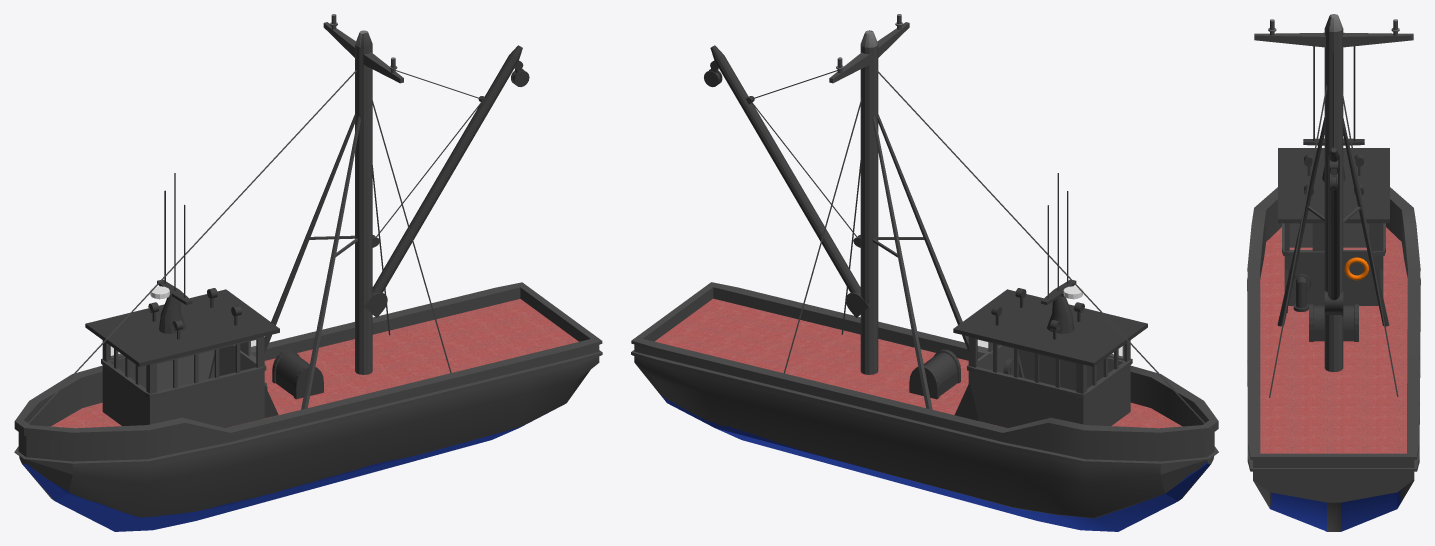
3 renders of one model, left to right at view 1: azimuth 30°, elevation 25°; view 2: azimuth 150°, elevation 25°; view 3: azimuth 270°, elevation 25°, orthographic. The views are drawn at different scales.
Parts seen in each view (by area): view 1: hull, pCube32, pCube33, pCylinder5, pCylinder22, pCylinder20, pCylinder23, pCylinder21, pCube20, cables1; view 2: hull, pCube32, pCube33, pCylinder5, pCylinder22, pCylinder23, pCylinder21, pCylinder20, pCube20, cables1; view 3: hull, pCube33, pCube32, pCylinder5, pCube20, pCylinder22, pCylinder23, pCylinder20, pCylinder21, cables2, cables3, pCylinder29 (+4 smaller).
Boxes of the visible parts, x1=… form: hull: x1=14, y1=282, x2=602, y2=531; pCube32: x1=101, y1=336, x2=266, y2=428; pCube33: x1=85, y1=289, x2=279, y2=366; pCylinder5: x1=355, y1=30, x2=372, y2=374; pCylinder22: x1=372, y1=45, x2=522, y2=292; pCylinder20: x1=301, y1=116, x2=360, y2=409; pCylinder23: x1=272, y1=349, x2=323, y2=399; pCylinder21: x1=264, y1=114, x2=355, y2=353; pCube20: x1=323, y1=22, x2=403, y2=83; cables1: x1=28, y1=70, x2=356, y2=423; hull: x1=631, y1=282, x2=1218, y2=531; pCube32: x1=967, y1=336, x2=1132, y2=427; pCube33: x1=953, y1=289, x2=1147, y2=366; pCylinder5: x1=860, y1=30, x2=878, y2=374; pCylinder22: x1=710, y1=45, x2=860, y2=292; pCylinder23: x1=909, y1=349, x2=960, y2=399; pCylinder21: x1=872, y1=116, x2=932, y2=409; pCylinder20: x1=877, y1=114, x2=968, y2=351; pCube20: x1=829, y1=22, x2=909, y2=83; cables1: x1=876, y1=70, x2=1204, y2=423; hull: x1=1247, y1=187, x2=1420, y2=531; pCube33: x1=1278, y1=148, x2=1389, y2=223; pCube32: x1=1282, y1=223, x2=1385, y2=305; pCylinder5: x1=1324, y1=14, x2=1343, y2=371; pCube20: x1=1254, y1=32, x2=1413, y2=47; pCylinder22: x1=1328, y1=147, x2=1339, y2=300; pCylinder23: x1=1309, y1=303, x2=1358, y2=341; pCylinder20: x1=1277, y1=117, x2=1324, y2=326; pCylinder21: x1=1343, y1=118, x2=1389, y2=326; cables2: x1=1269, y1=85, x2=1327, y2=397; cables3: x1=1340, y1=85, x2=1398, y2=396; pCylinder29: x1=1293, y1=276, x2=1308, y2=311.
Bounding box in the file's own units: 19.03 × 14.87 × 5.07.
7 materials, 2 textured.
